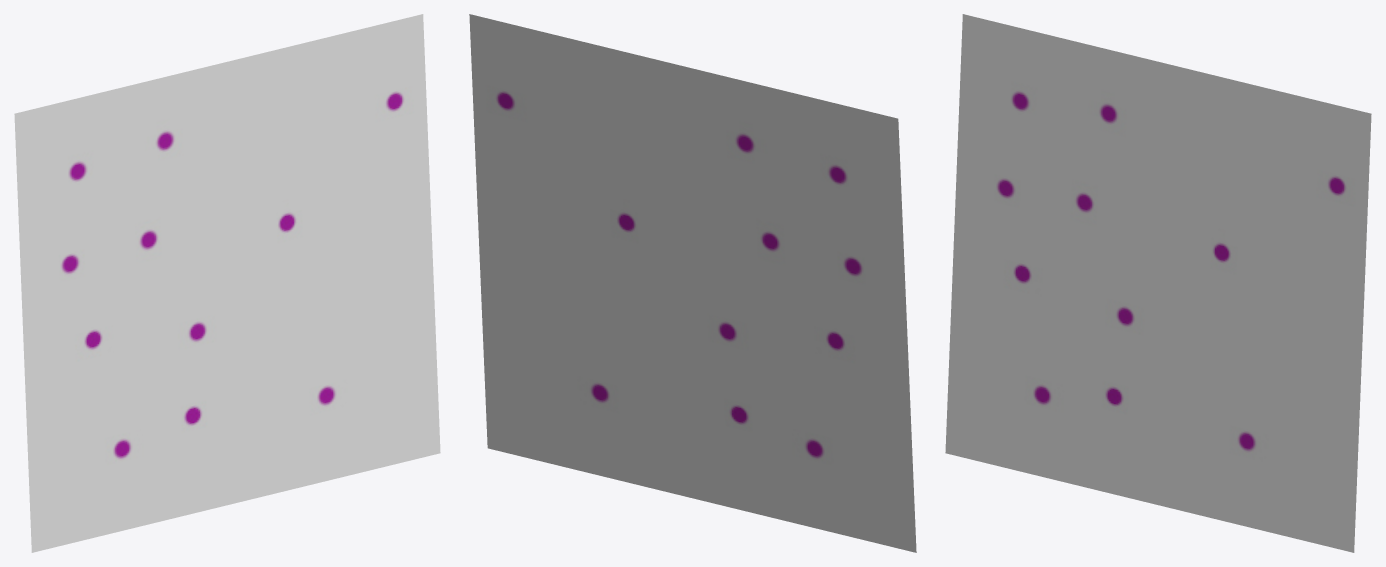
The picture shows the model from 3 angles, left to right: view 1: azimuth 30°, elevation 25°; view 2: azimuth 150°, elevation 25°; view 3: azimuth 330°, elevation 25°; orthographic projection. The views are drawn at different scales.
Visible parts, largest first — view 1: Grid; view 2: Grid; view 3: Grid.
Boxes of the visible parts, box(x1,y1,x2,y2) form: Grid: box(14, 14, 440, 552); Grid: box(469, 14, 916, 552); Grid: box(945, 14, 1371, 552).
Bounding box in the file's own units: 2 × 1.99 × 0.1471.
1 material, 1 textured.
